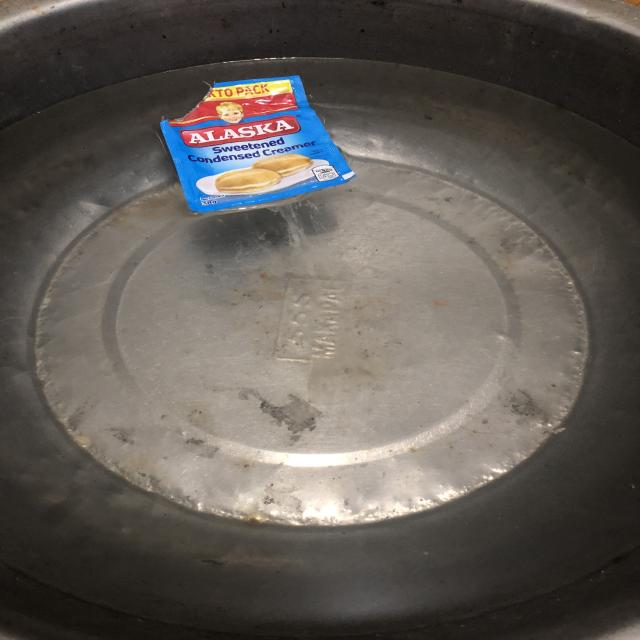Plastic Wrapper: (160, 75, 355, 213)
